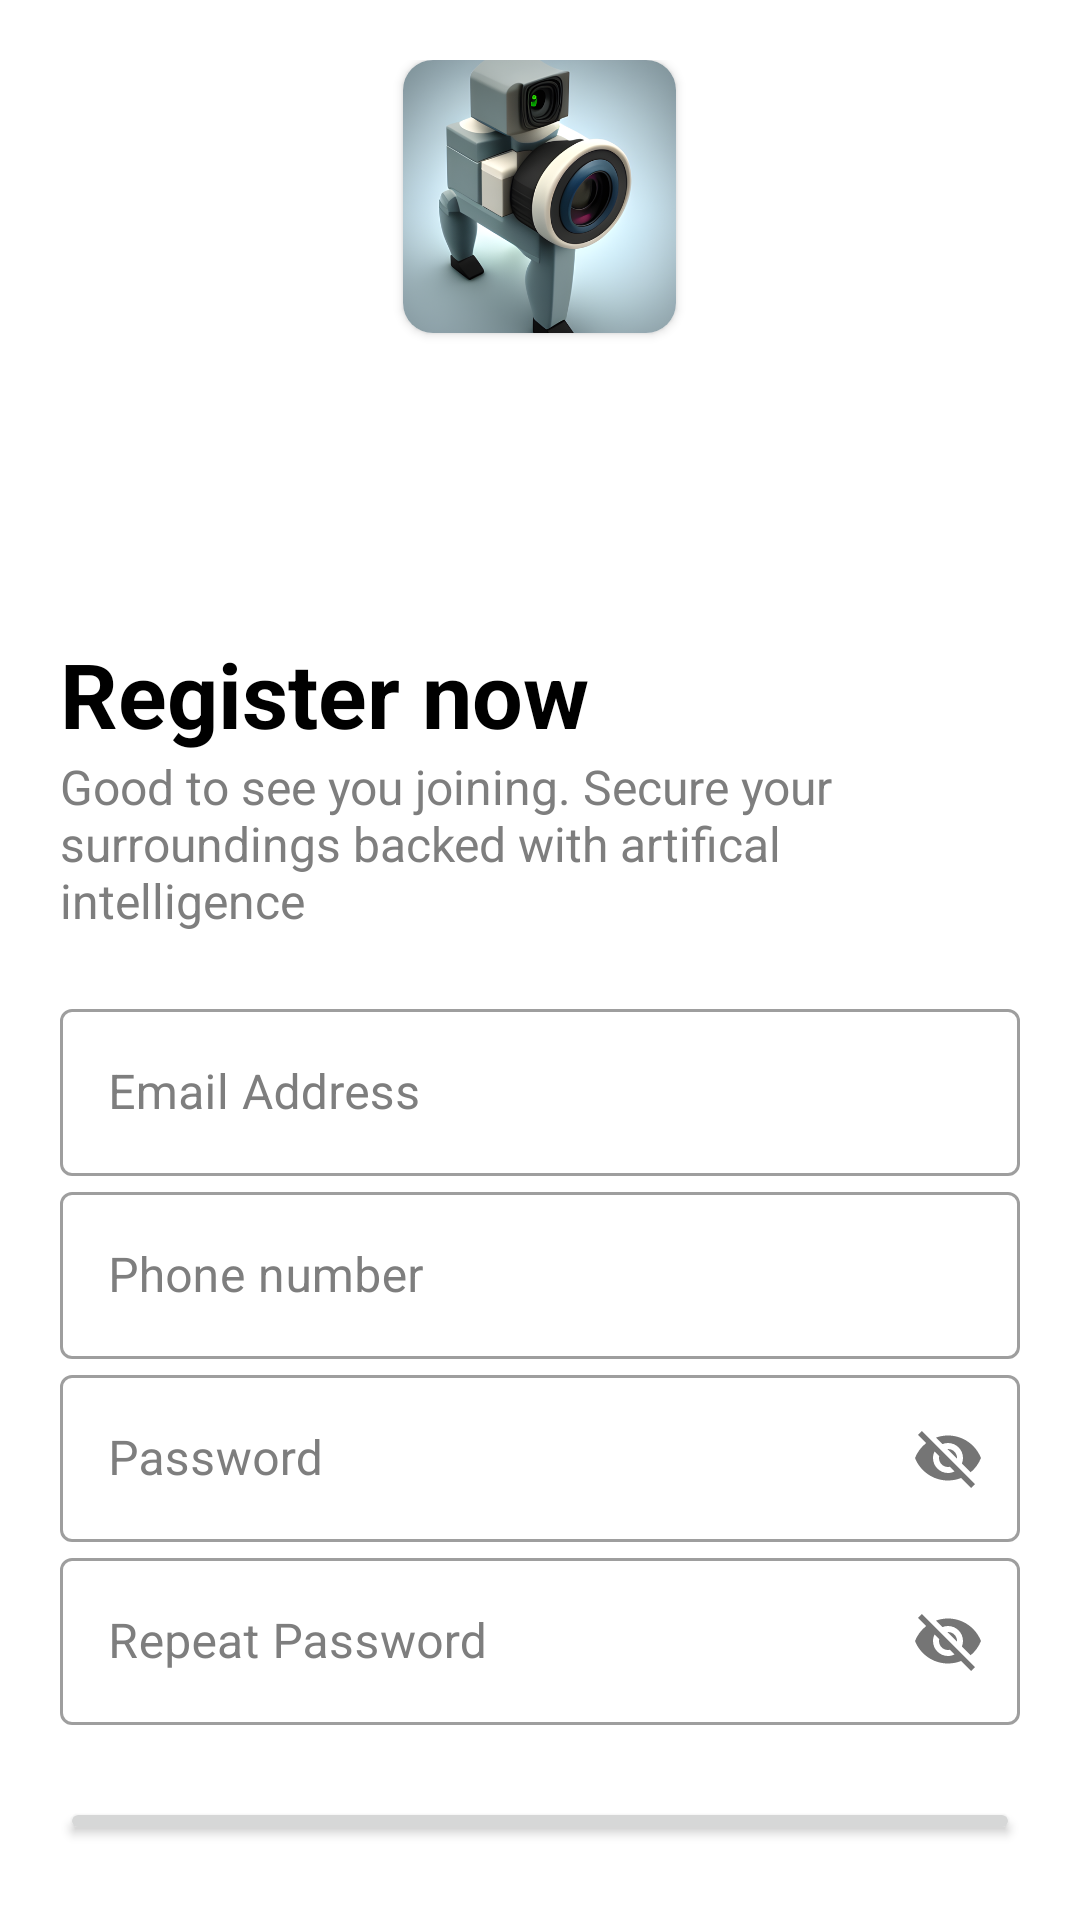

Named icons in this screenshot (1080px×1920px) and their bounding boxes, rect(x1, y1, x2, y2):
application: rect(403, 60, 676, 333)
